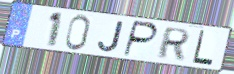0: (64, 13, 92, 52)
1: (47, 12, 65, 48)
J: (96, 20, 125, 54)
L: (190, 29, 214, 67)
P: (122, 19, 160, 58)
R: (154, 26, 192, 61)
